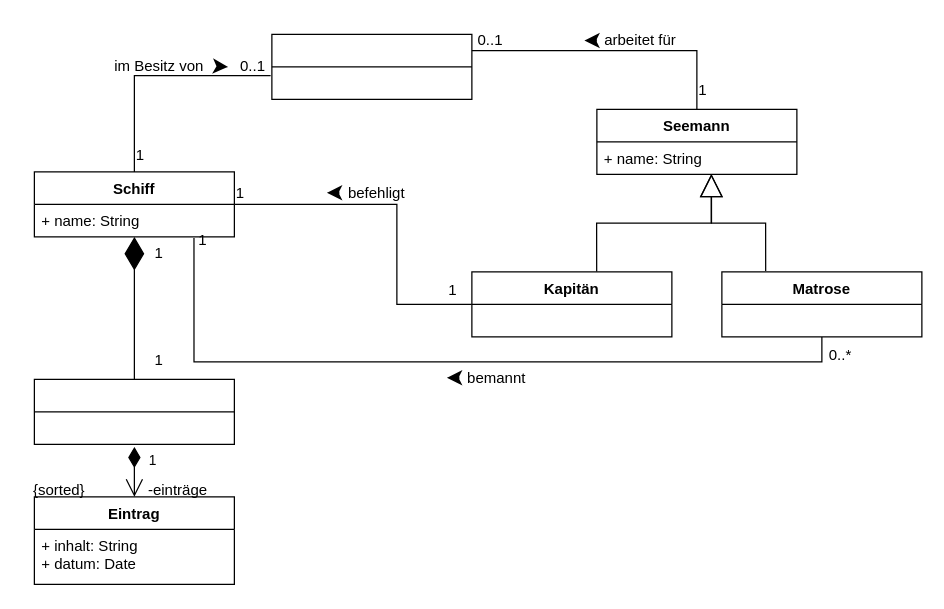
The diagram is 944 pixels wide and 609 high, and some of its shapes have lost their labels. Here are the shapes that lost their labels. From the top down, the centre of each, then its label:
point (371, 66): Reederei
point (133, 411): Logbuch
